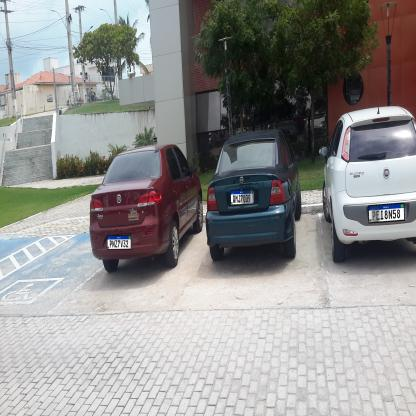PlacaM: (368, 203, 405, 223), (231, 189, 254, 205), (107, 235, 131, 250)
